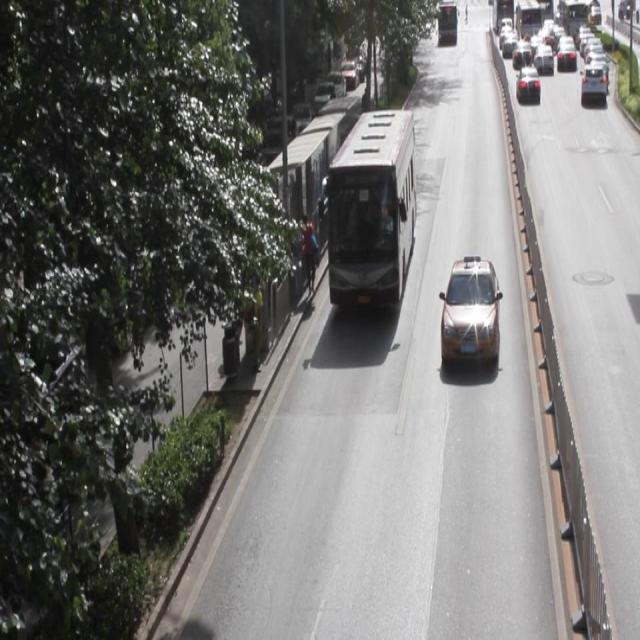car: (440, 256, 498, 365)
van: (328, 111, 413, 304)
